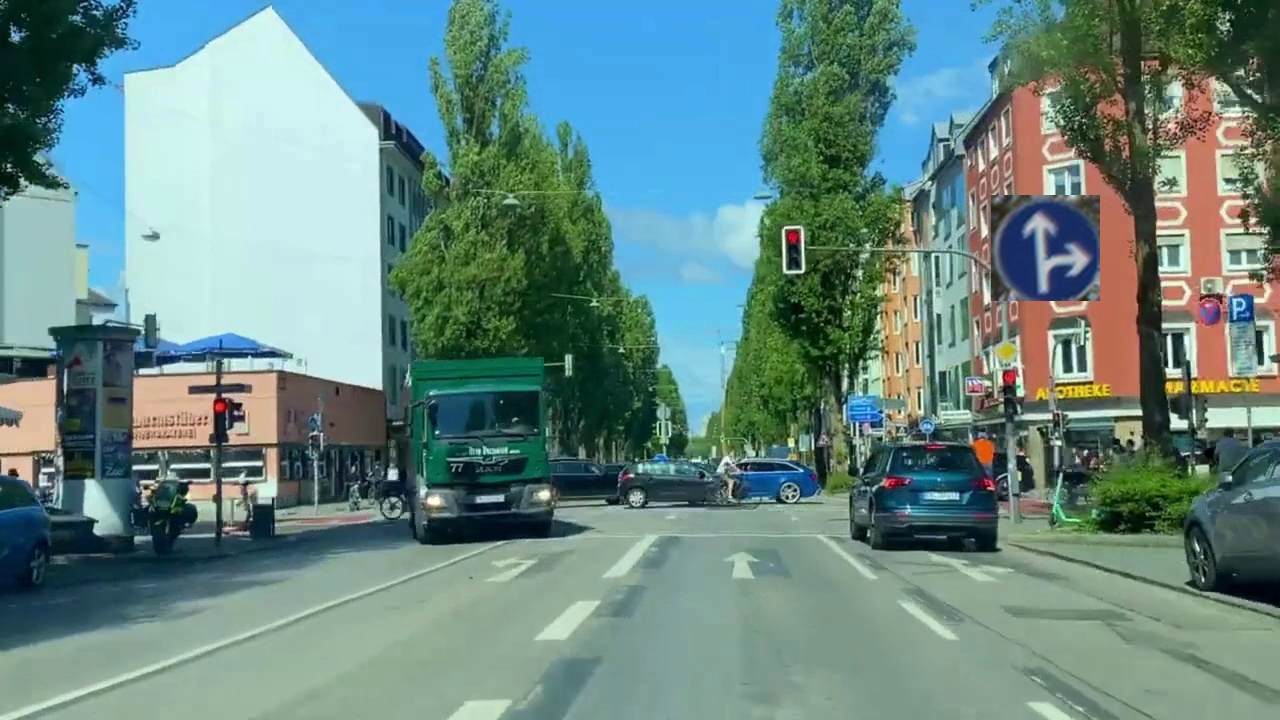Straight/right: (991, 195, 1100, 301)
